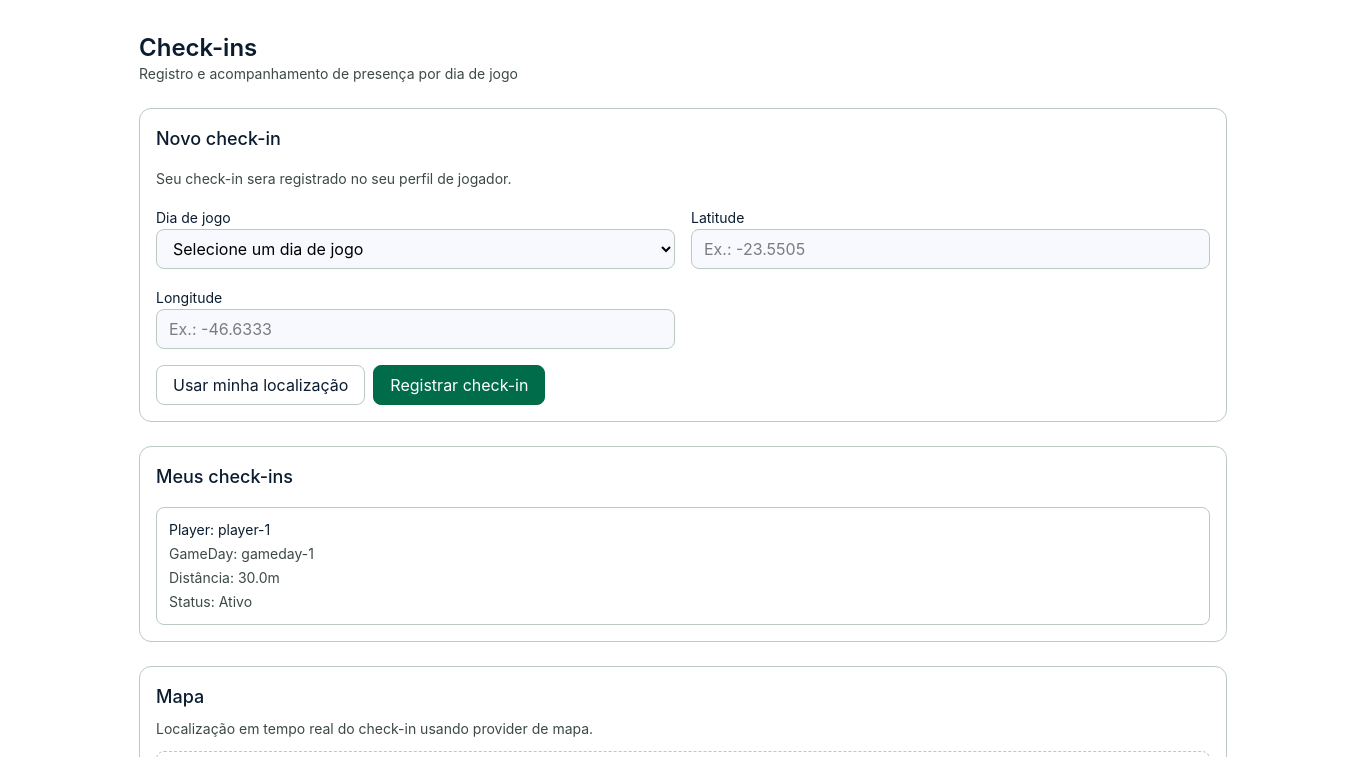
Test: CheckinsPage › deve mostrar erro quando geolocalização falha
Click the button "Usar minha localização" at (261, 385), box x1=156 y1=365 x2=365 y2=405
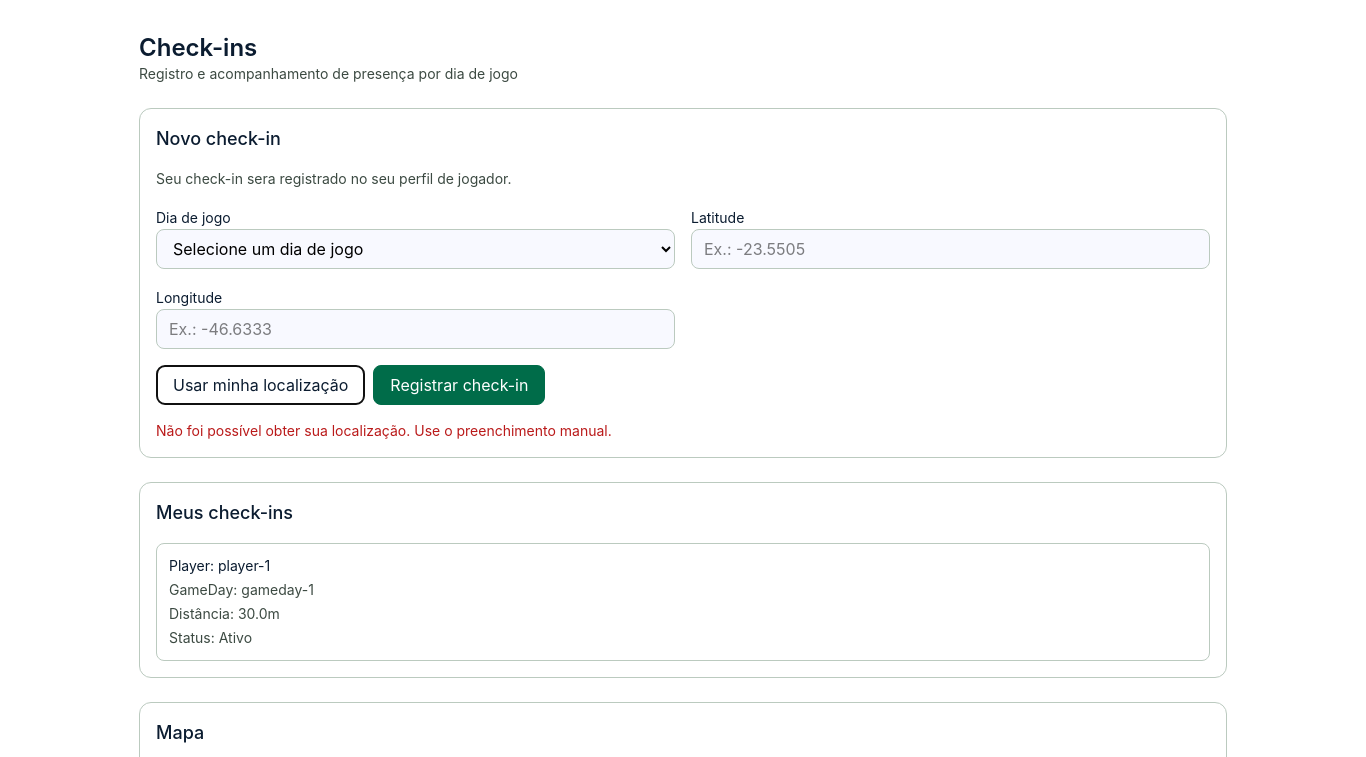
Expected: the text "Não foi possível obter sua localização" is shown, x1=156 y1=422 x2=612 y2=439
